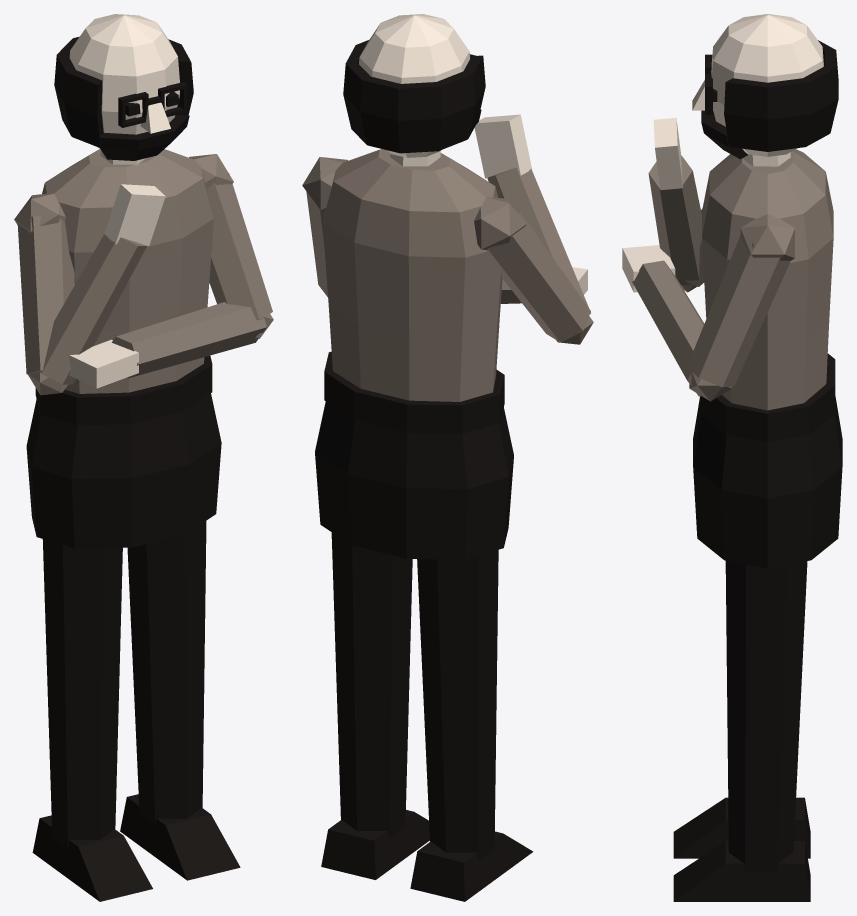
3 renders of one model, left to right at view 1: azimuth 30°, elevation 25°; view 2: azimuth 150°, elevation 25°; view 3: azimuth 270°, elevation 25°, orthographic. The views are drawn at different scales.
Visible parts, largest first — view 1: critico; view 2: critico; view 3: critico.
Boxes of the visible parts, <box> form: critico: <box>14,14,273,901</box>; critico: <box>302,14,593,901</box>; critico: <box>622,14,842,901</box>.
Bounding box in the file's own units: 0.5104 × 1.64 × 0.385.
